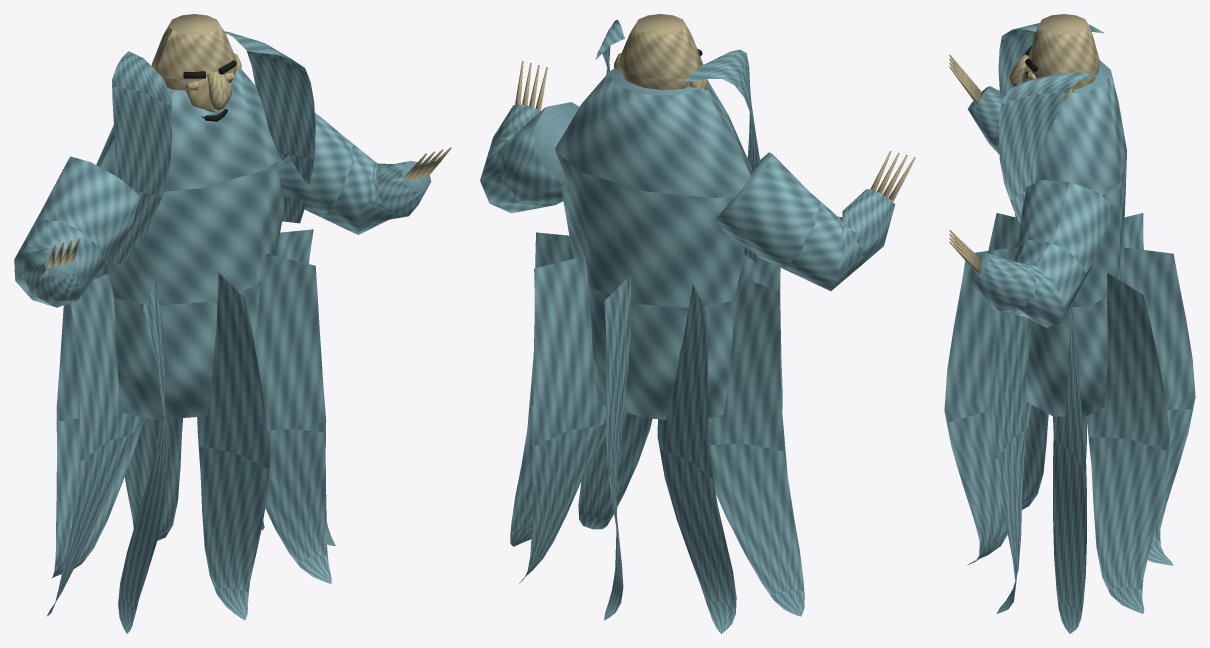
The model's file is special-spirit-mobile.glb.
3 renders of one model, left to right at view 1: azimuth 30°, elevation 25°; view 2: azimuth 150°, elevation 25°; view 3: azimuth 270°, elevation 25°, orthographic. The views are drawn at different scales.
Visible parts, largest first — view 1: spirit, bone; view 2: spirit, bone; view 3: spirit, bone.
Part boxes in pixels (<box>): spirit: <box>14,31,431,633</box>; bone: <box>47,14,451,268</box>; spirit: <box>480,19,895,633</box>; bone: <box>515,14,915,201</box>; spirit: <box>944,23,1195,633</box>; bone: <box>949,14,1100,273</box>.
Bounding box in the file's own units: 1.07 × 1.44 × 0.6059.
Materials: 3 (3 with a texture image).
